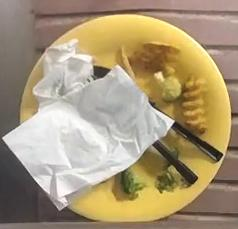broccoli: (156, 165, 191, 193), (121, 168, 145, 194)
fries: (181, 76, 207, 134)
